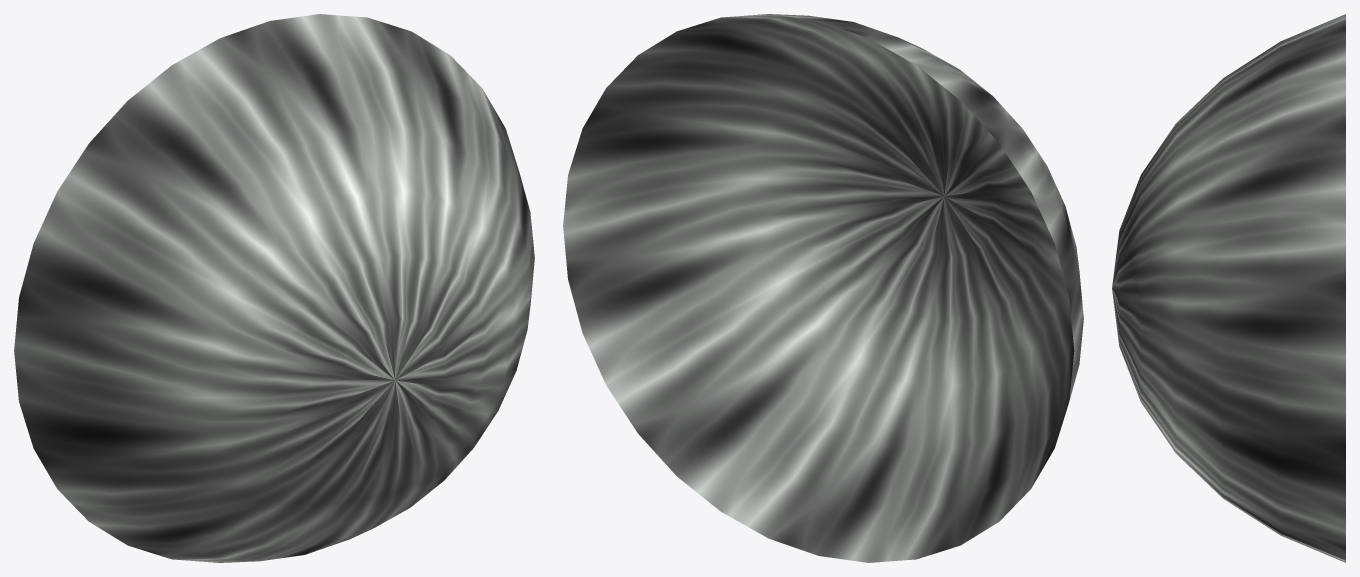
Rendered from 1003_banyuan1.fbx.
3 views of the same model, side by side, from view 1: azimuth 30°, elevation 25°; view 2: azimuth 150°, elevation 25°; view 3: azimuth 270°, elevation 25° (orthographic). The views are drawn at different scales.
Visible parts, largest first — view 1: Sphere001; view 2: Sphere001; view 3: Sphere001.
Boxes of the visible parts, x1,y1,x2,y2 form: Sphere001: [14, 14, 534, 562]; Sphere001: [563, 14, 1083, 562]; Sphere001: [1112, 14, 1345, 562].
Size of the model in its own units: 81.12 by 81.12 by 34.54.
